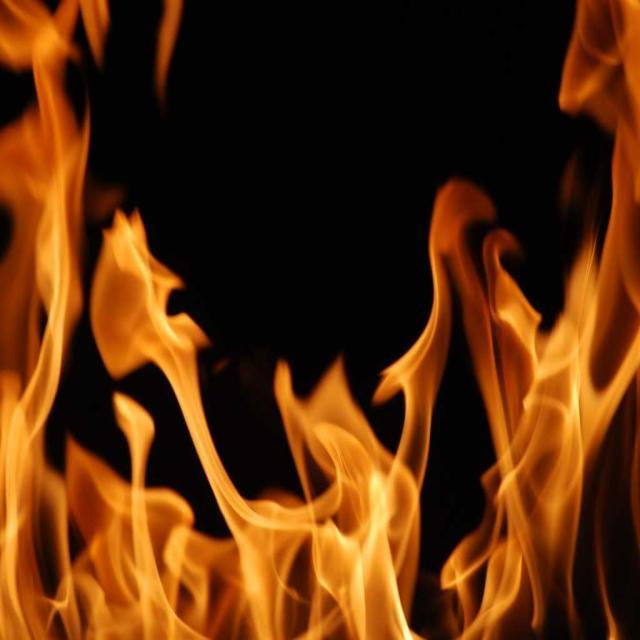Fire: (6, 4, 72, 634), (260, 341, 398, 638), (486, 362, 579, 620), (566, 5, 633, 362), (81, 446, 198, 630), (90, 222, 202, 382), (430, 205, 512, 354), (202, 460, 254, 634), (580, 370, 620, 584), (440, 546, 482, 632), (110, 394, 157, 439)
